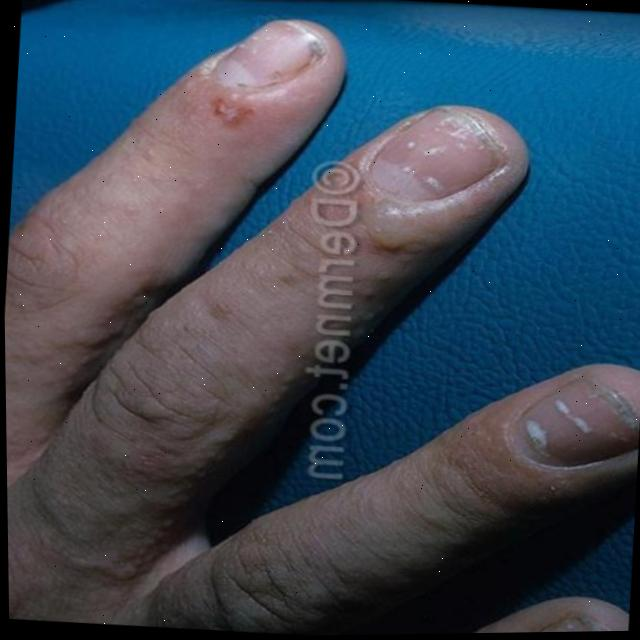Eczema: (194, 73, 281, 168), (348, 174, 424, 258), (446, 430, 525, 486)
